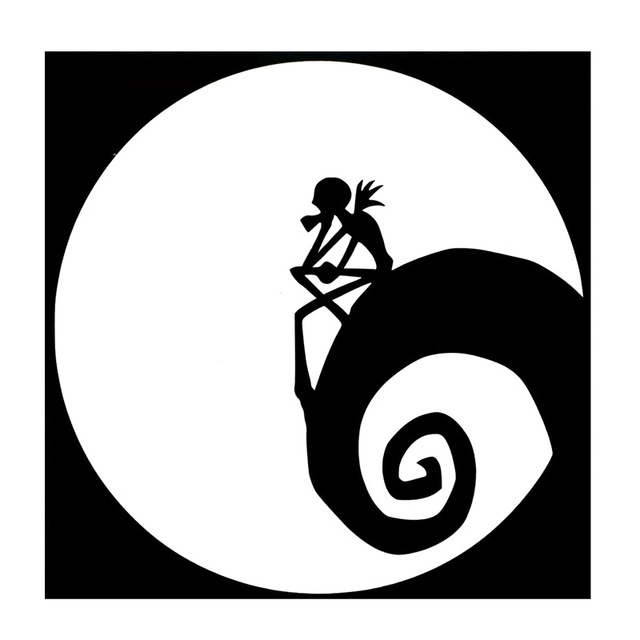Jack Skellington: (289, 177, 395, 420)
